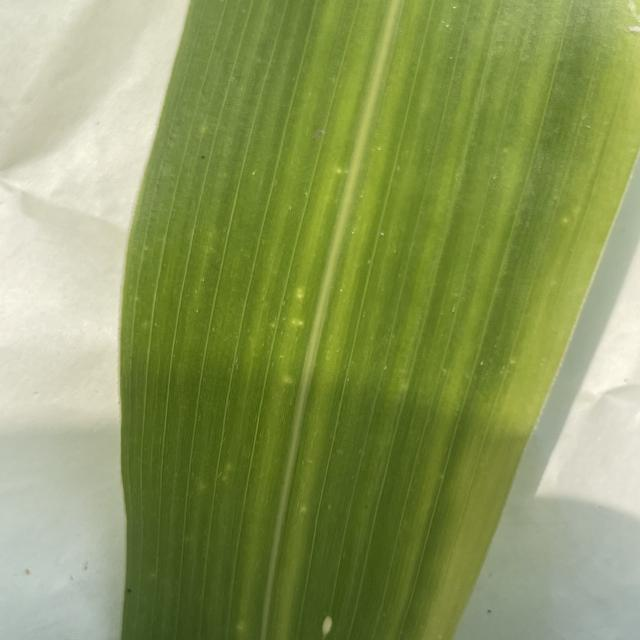millet_healthy: (120, 0, 639, 640)
